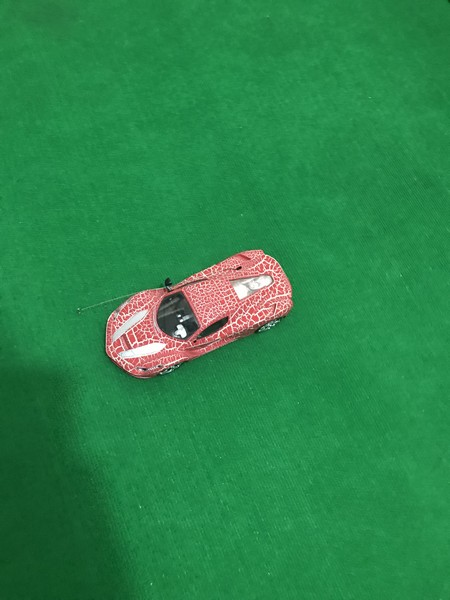RC: (101, 247, 296, 383)
